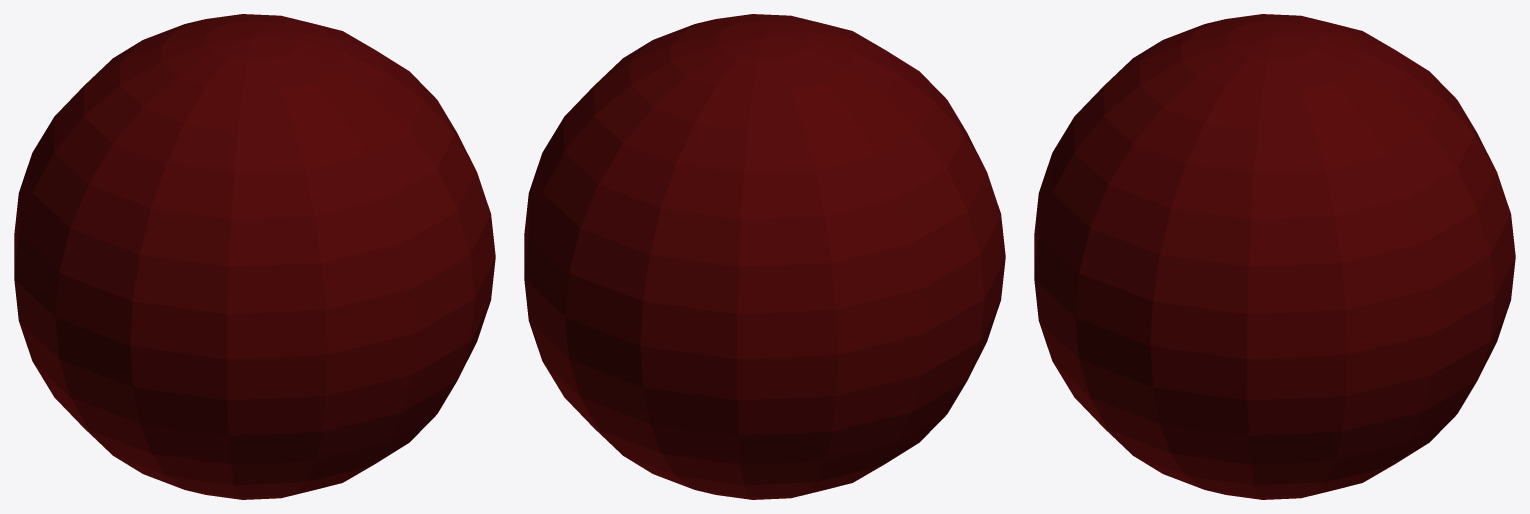
The model's file is FireBall.fbx.
The picture shows the model from 3 angles, left to right: view 1: azimuth 30°, elevation 25°; view 2: azimuth 150°, elevation 25°; view 3: azimuth 270°, elevation 25°; orthographic projection.
Parts seen in each view (by area): view 1: FireBall; view 2: FireBall; view 3: FireBall.
Part boxes in pixels (left/top/right/bottom): FireBall: left=14, top=14, right=495, bottom=499; FireBall: left=524, top=14, right=1005, bottom=499; FireBall: left=1034, top=14, right=1515, bottom=499.
Size of the model in its own units: 2095 by 2106 by 2083.
